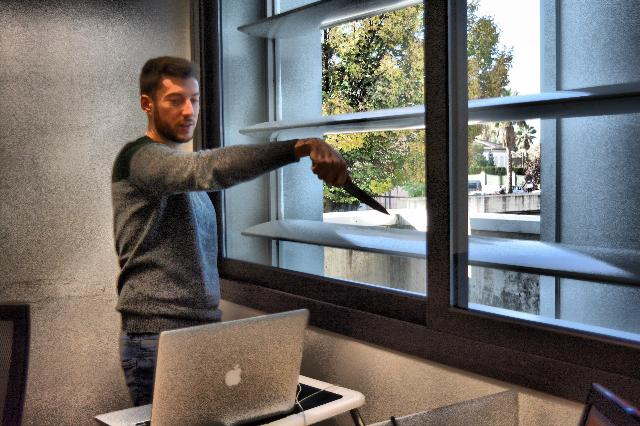knife: (331, 174, 392, 218)
